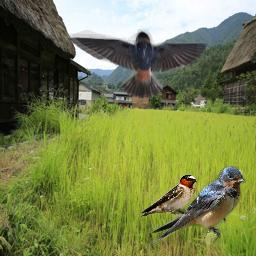Swallow: (64, 29, 209, 99), (146, 166, 246, 250), (140, 174, 197, 217)
